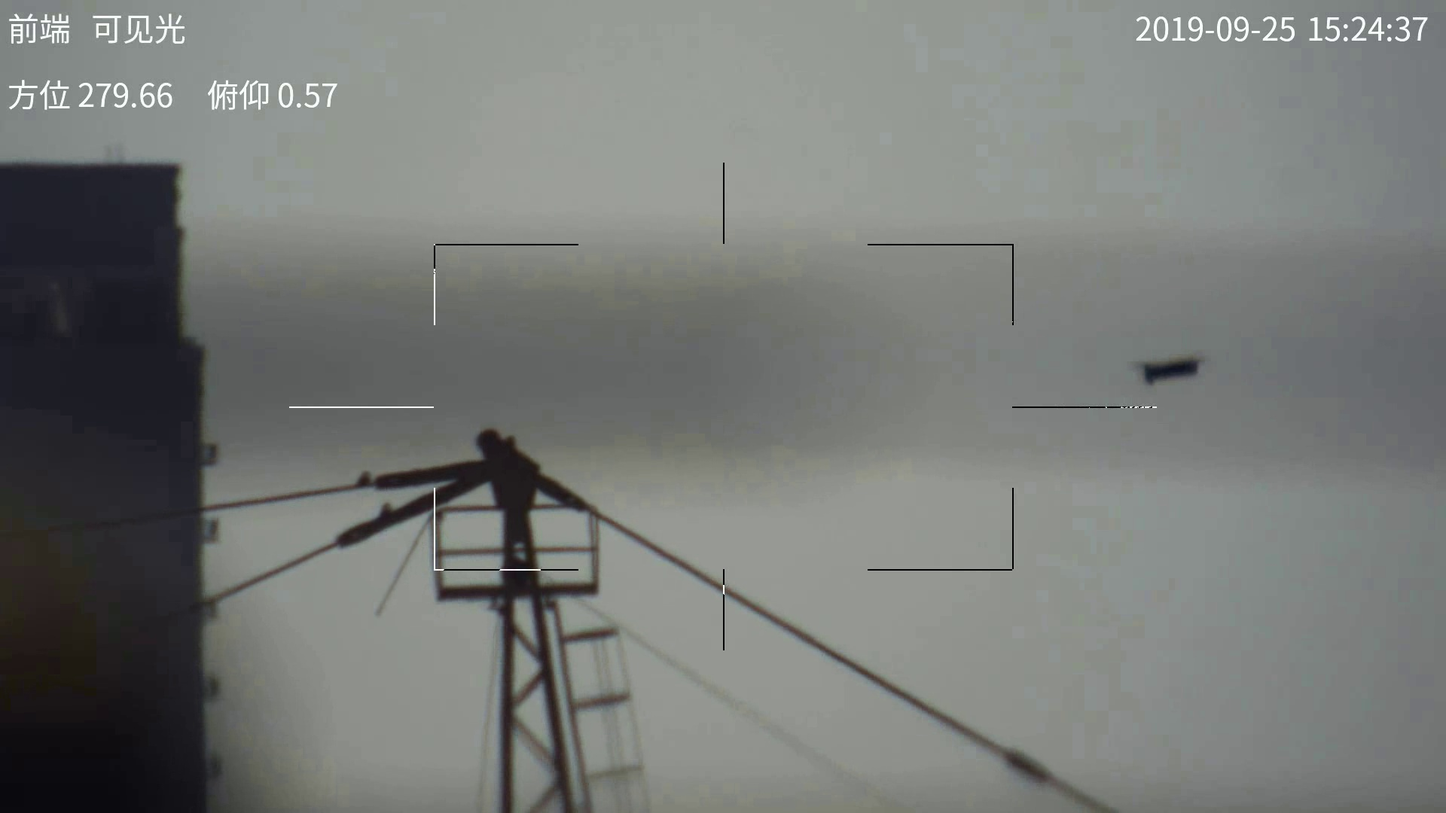drone_other: (1139, 357, 1204, 385)
